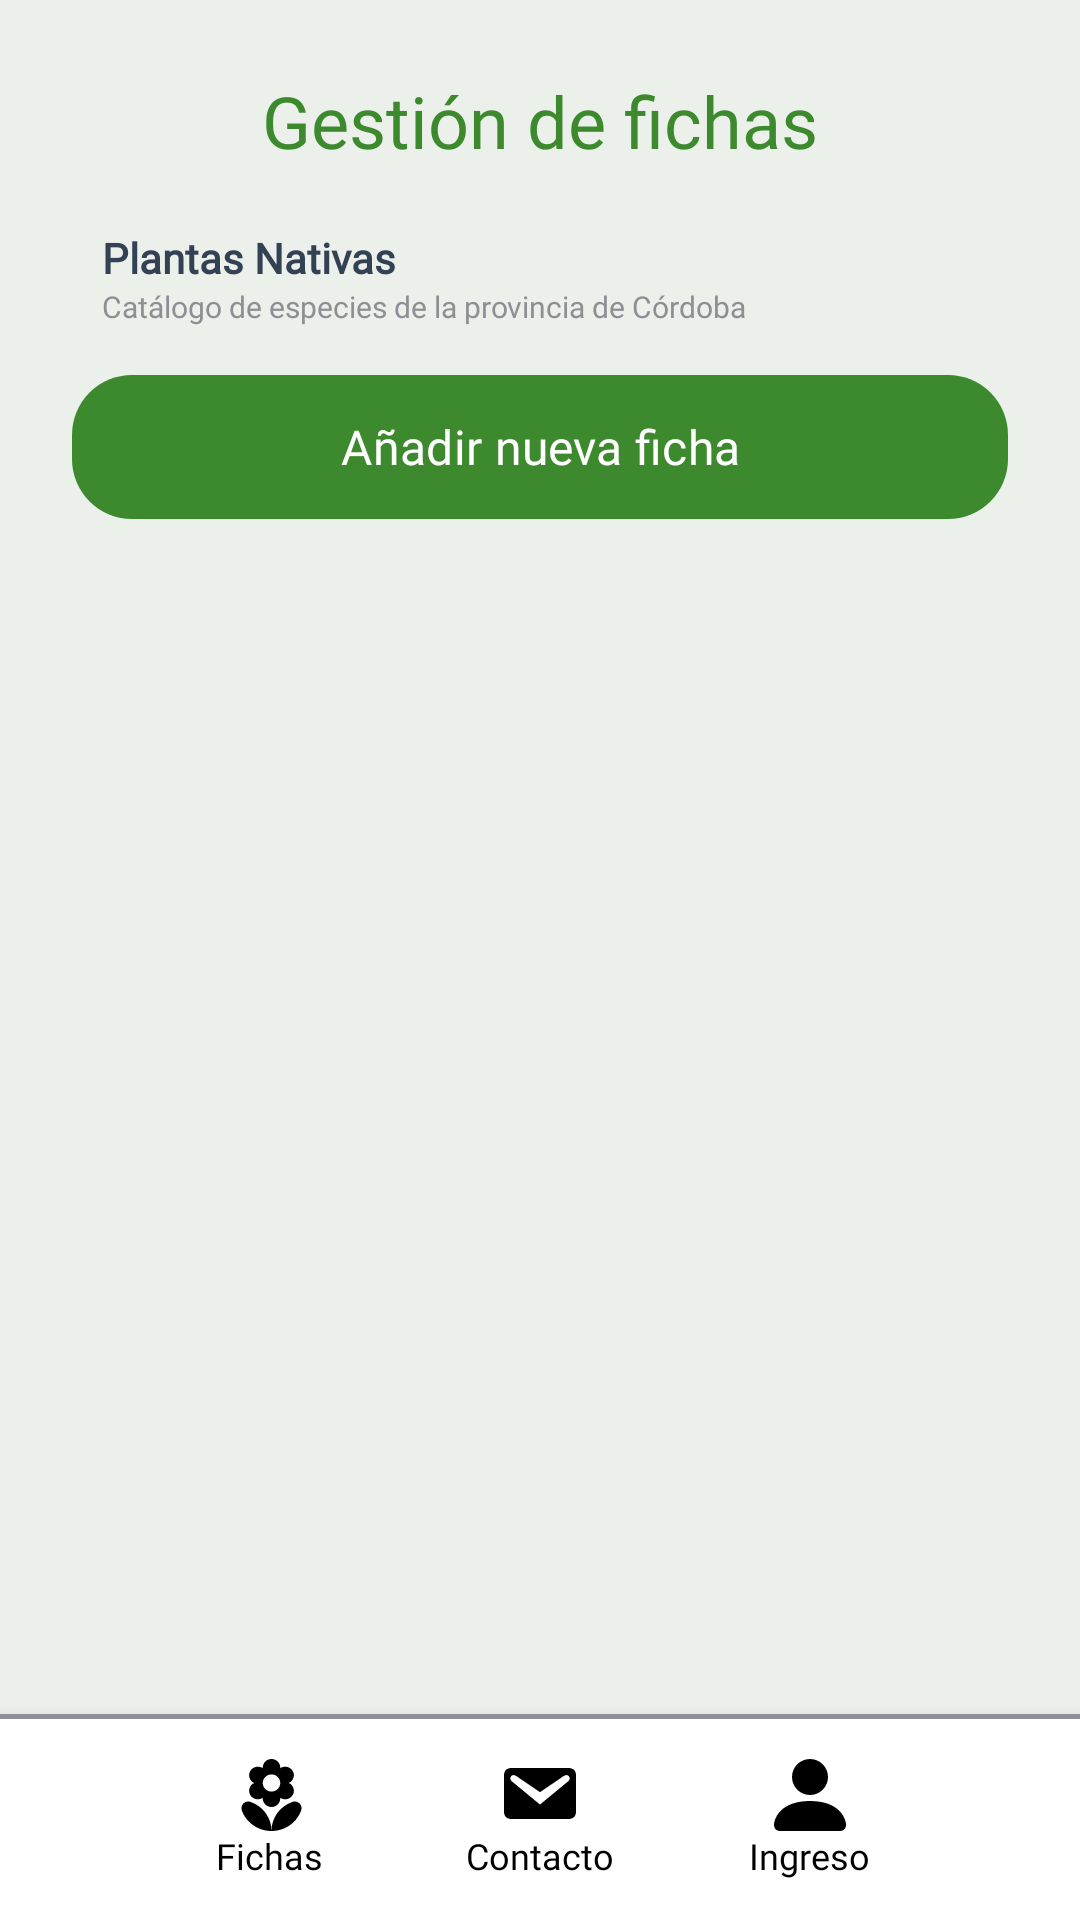

Icon bounding boxes for this 1080px×1920px phone screenshot, format (x1, y1, x2, y2):
usuario: (774, 1759, 846, 1831)
